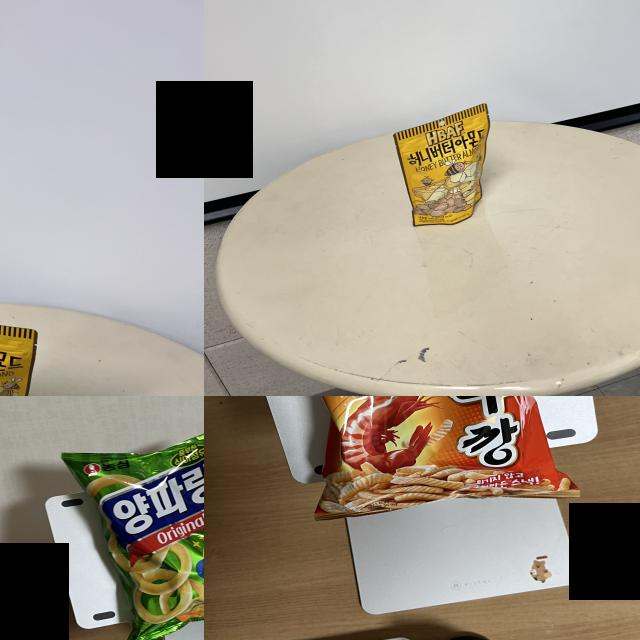honeyAmond: (406, 102, 483, 225)
onionRing: (58, 436, 204, 635)
shrimpGGang: (256, 396, 571, 501)
